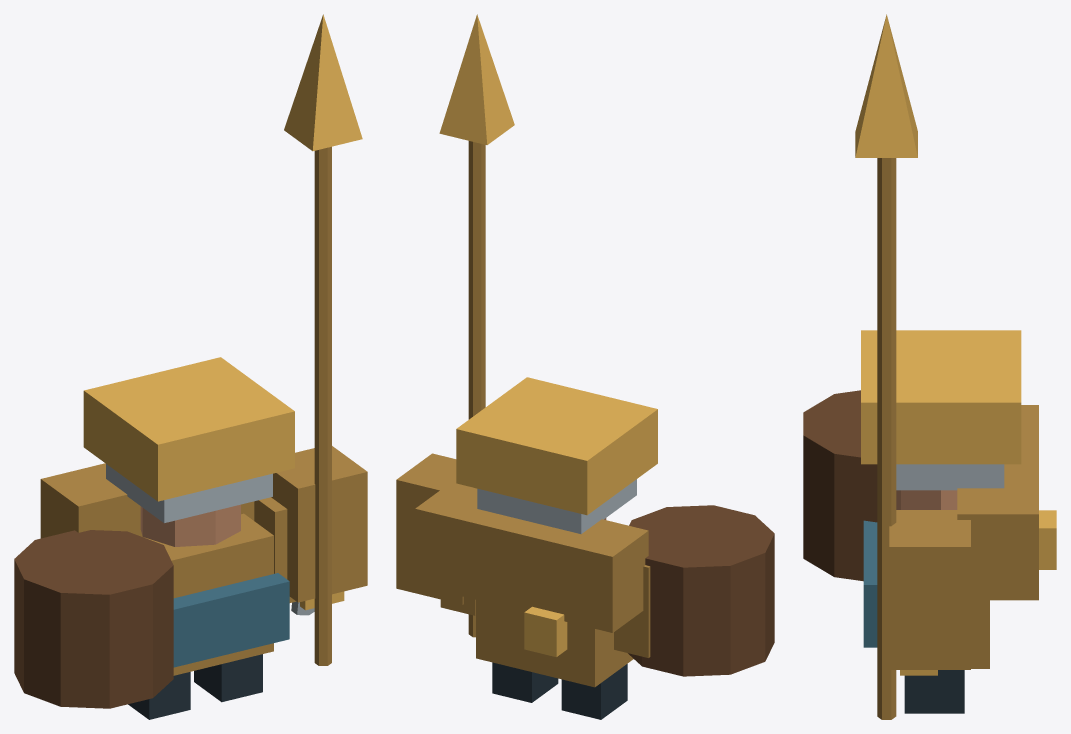
The model's file is pikeman.obj.
The picture shows the model from 3 angles, left to right: view 1: azimuth 30°, elevation 25°; view 2: azimuth 150°, elevation 25°; view 3: azimuth 270°, elevation 25°; orthographic projection. The views are drawn at different scales.
Visible parts, largest first — view 1: infantry; view 2: infantry; view 3: infantry.
Boxes of the visible parts, <box> form: infantry: <box>14,14,367,719</box>; infantry: <box>396,14,774,719</box>; infantry: <box>803,14,1056,719</box>.
Size of the model in its own units: 1.59 by 2.95 by 0.9317.
